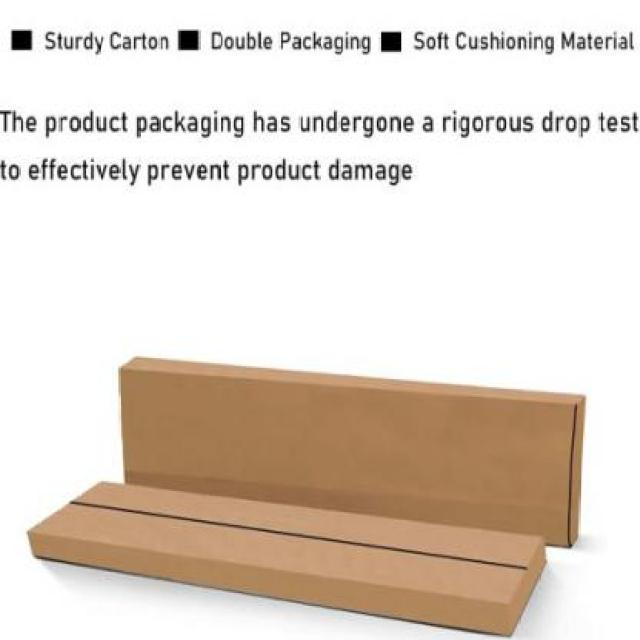box: (22, 342, 589, 640)
